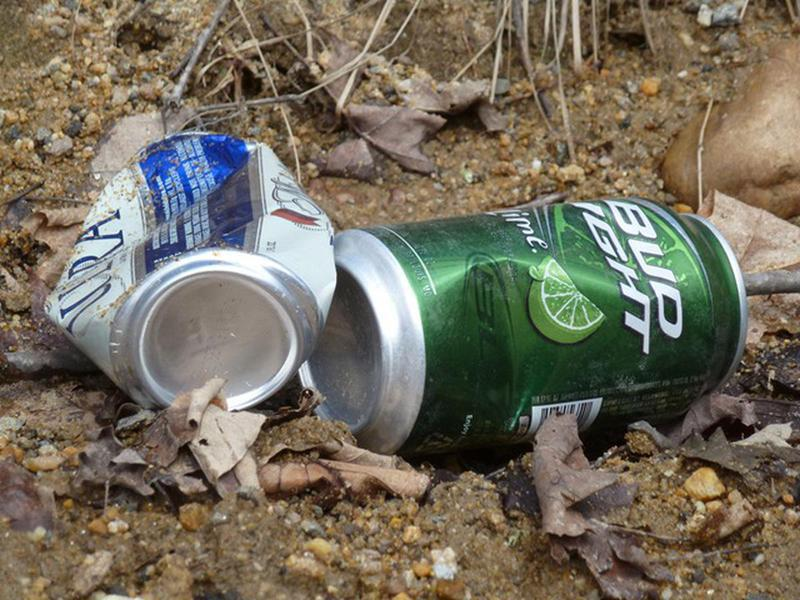can: (328, 192, 751, 460), (38, 132, 339, 423)
leaf: (137, 383, 271, 498), (510, 415, 623, 541), (342, 91, 443, 178), (322, 437, 431, 502)
